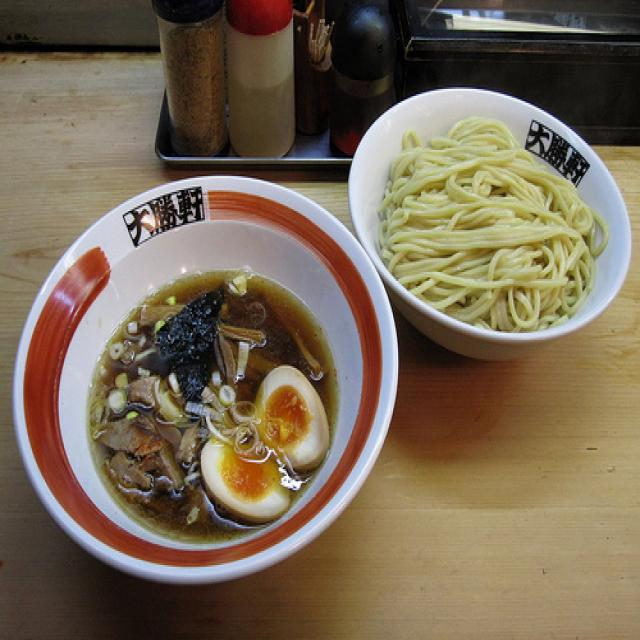面条主食: (100, 119, 605, 540)
